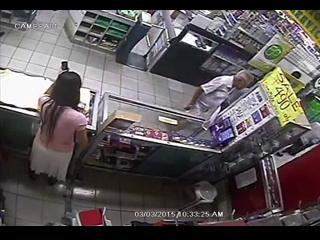Normal: (28, 68, 92, 190), (184, 70, 256, 120)
